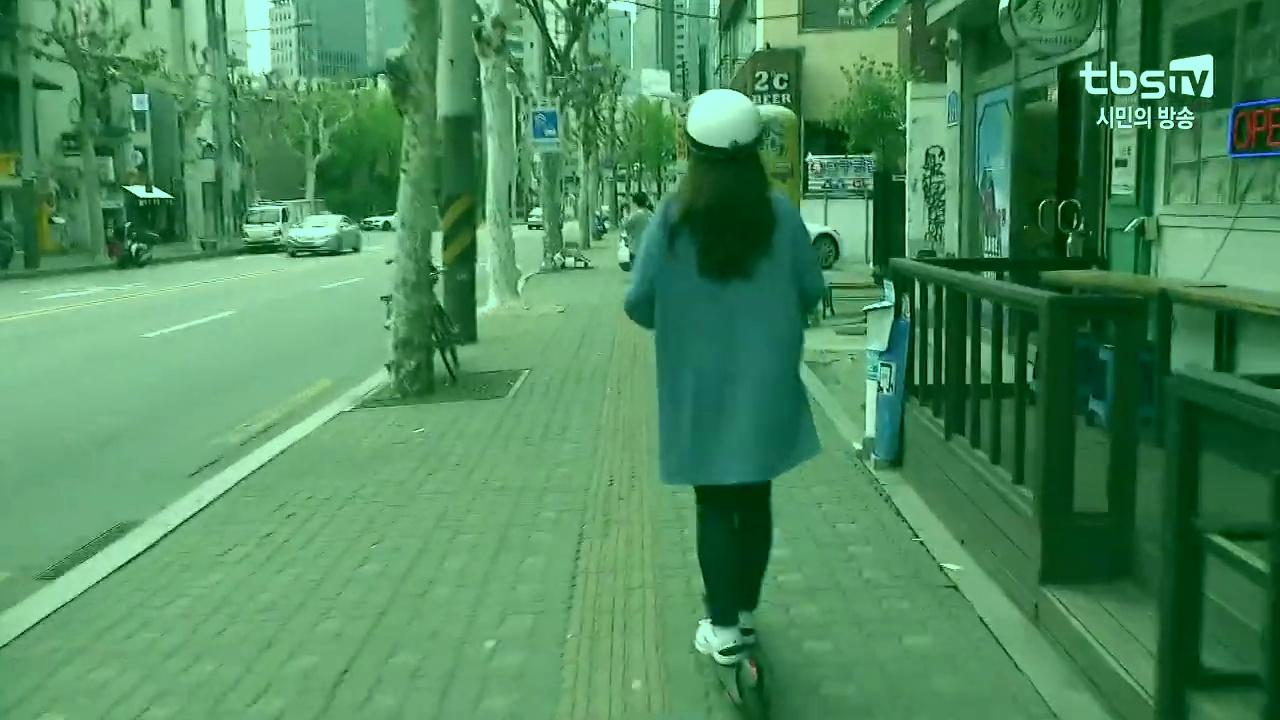helmet: (623, 86, 828, 720)
